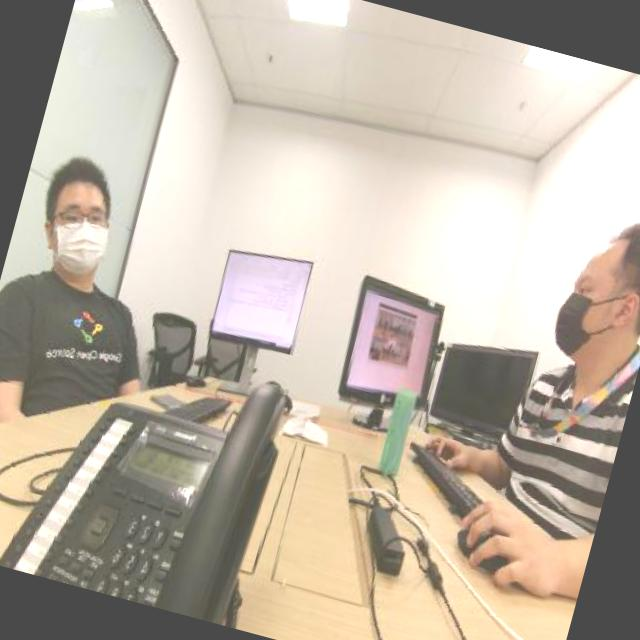Person: (485, 169, 640, 538), (0, 116, 163, 399)
